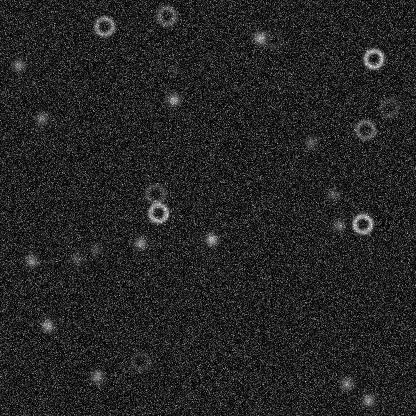Ring: (361, 46, 385, 70), (154, 3, 178, 27), (377, 95, 401, 119), (259, 27, 283, 51), (352, 117, 376, 141), (143, 181, 167, 205), (92, 14, 116, 38), (350, 211, 374, 235), (146, 200, 170, 224), (128, 349, 152, 373)
Spot: (324, 186, 340, 202), (302, 133, 318, 149), (10, 57, 26, 73), (203, 231, 219, 247), (251, 29, 267, 45), (88, 368, 104, 384), (166, 61, 182, 77), (165, 91, 181, 107), (87, 241, 103, 257), (338, 375, 354, 391), (33, 110, 49, 126), (39, 317, 55, 333), (23, 252, 39, 268), (69, 251, 85, 267), (360, 392, 376, 408), (330, 217, 346, 233), (132, 235, 148, 251)
